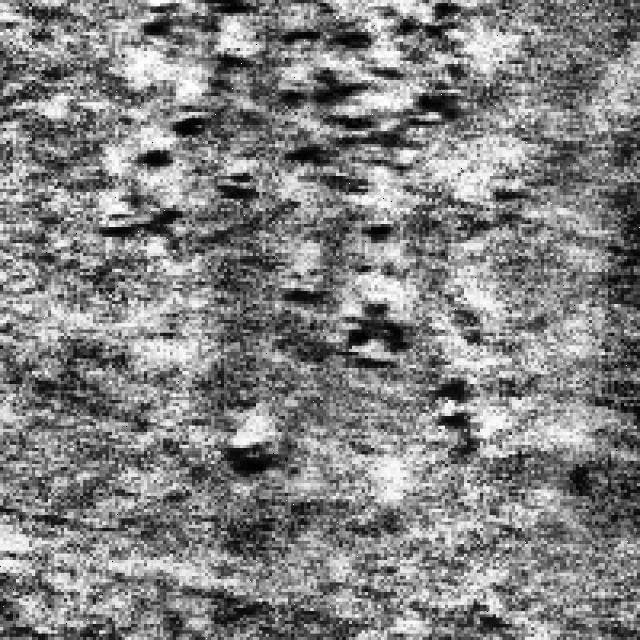Crazing: (140, 0, 490, 211), (221, 278, 496, 477)
